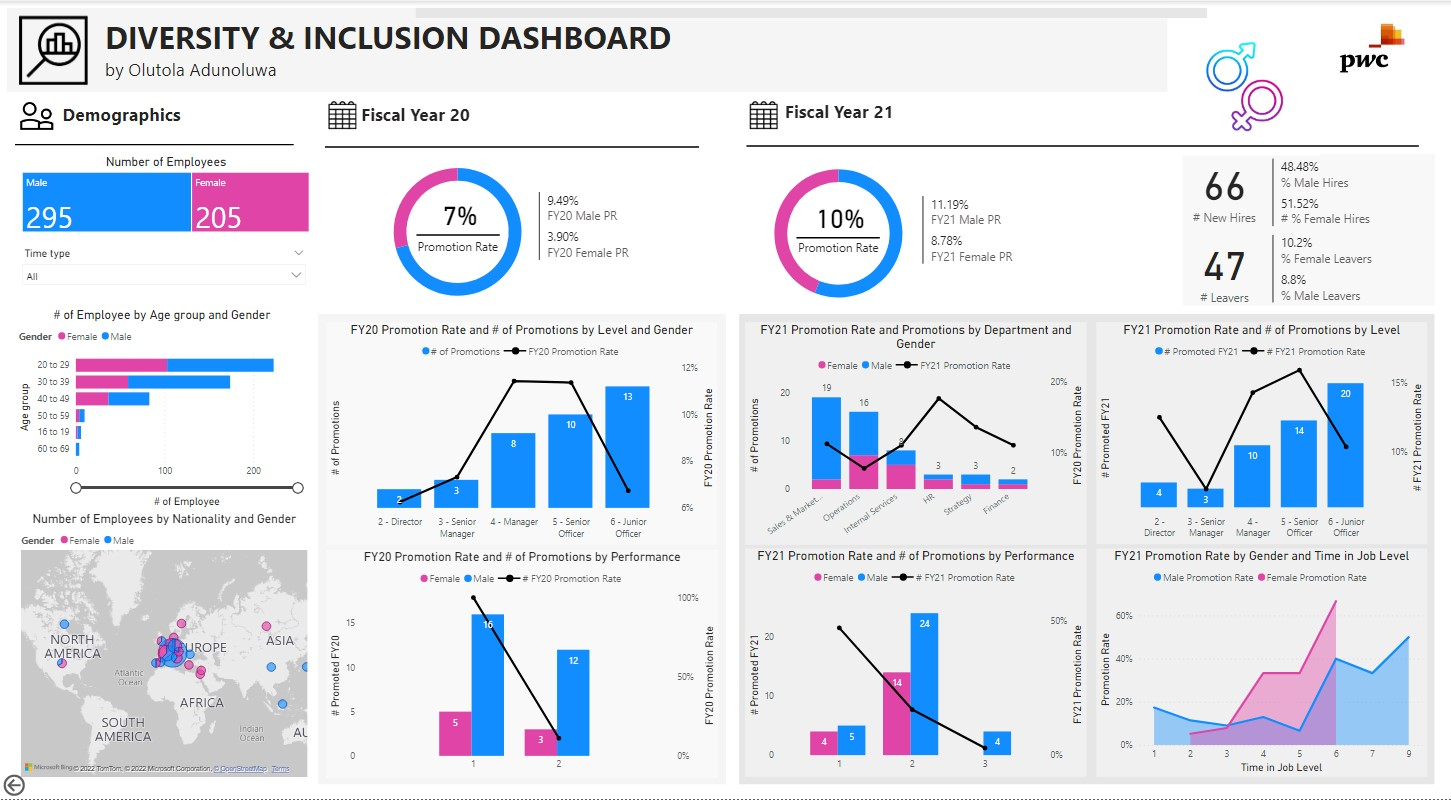

This screenshot's page, from the dashboard's own definition file:
{"tool":"powerbi","page":{"name":"Duplicate of Page 1A","canvas":[2000,1100],"ordinal":1},"visuals":[{"type":"shape","box":[0,0,1640,134.5],"z":0},{"type":"image","box":[1028.3,131.7,48.2,53.4],"z":0,"group":"g6"},{"type":"donutChart","fields":{"Category":["Pharma.Gender"],"Y":["Pharma.# Leavers"]},"box":[989.8,204.9,329.7,230.2],"z":0,"group":"g1"},{"type":"textbox","box":[1076.5,131.7,229,53.4],"z":1000,"group":"g6"},{"type":"image","box":[1795.7,154.3,204.3,292.9],"z":1000},{"type":"donutChart","fields":{"Category":["Pharma.Gender"],"Y":["Pharma.# New Hires"]},"box":[461.3,203.1,338,230.1],"z":1000,"group":"g3"},{"type":"multiRowCard","fields":{"Values":["Pharma.# % Male Hires","Pharma.# % Female Hires"]},"box":[736.8,258.6,205,121.2],"z":1000,"group":"g2"},{"type":"card","fields":{"Values":["Pharma.# Leavers"]},"box":[1093.7,273.7,127.9,45.3],"z":1000,"group":"g4"},{"type":"shape","box":[428.6,421.8,580.1,666.2],"z":2000},{"type":"card","fields":{"Values":["Pharma.# New Hires"]},"box":[571.3,278.8,112.9,52.9],"z":3000,"group":"g3"},{"type":"shape","box":[1097.1,318,115,15],"z":3000,"group":"g4"},{"type":"shape","box":[1008.8,421.8,976.1,666.2],"z":3000},{"type":"treemap","title":"Number of Employees","fields":{"Group":["Pharma Group AG.Gender"],"Values":["CountNonNull(Pharma.Employee ID)"]},"box":[25,211.3,405.4,111.4],"z":4000},{"type":"shape","box":[573.2,315.7,115,14.6],"z":5000,"group":"g3"},{"type":"hundredPercentStackedColumnChart","title":"Employee Distribution by Job Level and Gender","fields":{"Y":["CountNonNull(Pharma.Employee ID)"],"Series":["Pharma.Gender"],"Category":["Pharma.Job Level after FY20 promotions"]},"box":[449.2,442.5,538.3,306.7],"z":5000},{"type":"hundredPercentStackedBarChart","title":"# of Employees by Department and Gender","fields":{"Category":["Pharma.Department @01.07.2020"],"Series":["Pharma.Gender"],"Y":["CountNonNull(Pharma.Employee ID)"]},"box":[447.3,760,540,314.5],"z":6000},{"type":"barChart","title":"# Leavers by Department and Gender","fields":{"Category":["Pharma.Last Department in FY20"],"Series":["Pharma.Gender"],"Y":["Pharma.# Leavers"]},"box":[1026.7,441.9,470.5,306.7],"z":7000},{"type":"group","id":"g1","title":"Group 1","box":[989.8,204.9,329.7,230.2],"z":8000,"group":"g5"},{"type":"filledMap","fields":{"Category":["Pharma.Nationality 1"]},"box":[23.6,550.9,405.5,523.6],"z":8000},{"type":"areaChart","title":"Leave Rate by Time in Job Level ","fields":{"Category":["Pharma.Time in Job Level @01.07.2020"],"Y":["Pharma.# % Leave Rate"]},"box":[1510,754.3,455.7,314.3],"z":9000},{"type":"textbox","box":[140,15,1115,103.3],"z":10000},{"type":"image","box":[1771.6,0,228,122],"z":11000},{"type":"multiRowCard","fields":{"Values":["Pharma.# % Male Leavers","Pharma.# % Female Leavers"]},"box":[1265,264,215,121.2],"z":11000,"group":"g5"},{"type":"textbox","box":[1077.6,324.1,153.4,34.4],"z":11000,"group":"g4"},{"type":"group","id":"g2","title":"Group 4","box":[461.3,203.1,480.5,230.1],"z":12000},{"type":"group","id":"g3","title":"Group 2","box":[461.3,203.1,338,230.1],"z":12000,"group":"g2"},{"type":"textbox","box":[564.5,321.9,131.5,37.6],"z":12000,"group":"g3"},{"type":"group","id":"g4","title":"Group 3","box":[1077.6,273.7,153.4,84.8],"z":12002,"group":"g1"},{"type":"textbox","box":[493.1,135.1,229,53.4],"z":13000,"group":"g7"},{"type":"group","id":"g5","title":"Group 5","box":[989.8,204.9,490.6,229],"z":13000},{"type":"image","box":[20.3,134.6,59.5,48.5],"z":14000},{"type":"shape","box":[448.3,185,515,33.3],"z":15000},{"type":"shape","box":[1027.7,182.5,926.1,34.4],"z":16000},{"type":"shape","box":[20.7,184.2,383.9,27.5],"z":17000},{"type":"group","id":"g6","title":"Group 6","box":[1028.3,131.7,278.3,53.3],"z":18000},{"type":"group","id":"g7","title":"Group 7","box":[493.1,135.1,229,53.4],"z":18000,"group":"g8"},{"type":"slicer","fields":{"Values":["Pharma.Time type"]},"box":[20.7,334,409.7,74],"z":19000},{"type":"textbox","box":[80.9,134.3,229,53.4],"z":20000},{"type":"image","box":[20,15,105,105],"z":21000},{"type":"lineClusteredColumnComboChart","title":"# Leavers by Age Group and Gender","fields":{"Series":["Pharma.Gender"],"Y":["Pharma.# Leavers"],"Category":["Pharma.Age group"]},"box":[1026.7,754.3,470.5,314.3],"z":22000},{"type":"lineClusteredColumnComboChart","title":"# Leavers and Average Performance Rating by Level","fields":{"Category":["Pharma.Job Level before FY20 promotions"],"Series":["Pharma.Gender"],"Y":["Pharma.# Leavers"],"Y2":["Avg(Pharma.FY19 Performance Rating)"]},"box":[1510,442.9,455.7,305.7],"z":23000},{"type":"shape","box":[888.3,0,1110.3,32.7],"z":24000},{"type":"image","box":[430.9,132.7,65.5,49.1],"z":25001,"group":"g8"},{"type":"group","id":"g8","title":"Group 8","box":[430.9,132.7,291.1,55.7],"z":26000},{"type":"slicer","fields":{"Values":["Pharma.Region group: nationality 1"]},"box":[20,405.5,409.1,74.5],"z":27000},{"type":"slicer","fields":{"Values":["Pharma.Department @01.07.2020"]},"box":[20,476.4,409.1,74.5],"z":28000},{"type":"multiRowCard","fields":{"Values":["Avg(Pharma.FY20 Performance Rating)"]},"box":[1738.2,369.1,229.1,65.5],"z":29000}]}

Visuals, with their boxes in screenshot pixels (x1, y1, x2, y2), scaled from the page's 2000x1100 canvas onto the 1451x800 screenshot:
shape: l=0, t=0, r=1190, b=98
image: l=746, t=96, r=781, b=135
donutChart - Pharma.Gender x Pharma.# Leavers: l=718, t=149, r=957, b=316
textbox: l=781, t=96, r=947, b=135
image: l=1303, t=112, r=1450, b=325
donutChart - Pharma.Gender x Pharma.# New Hires: l=335, t=148, r=580, b=315
multiRowCard - Pharma.# % Male Hires x Pharma.# % Female Hires: l=535, t=188, r=683, b=276
card - Pharma.# Leavers: l=793, t=199, r=886, b=232
shape: l=311, t=307, r=732, b=791
card - Pharma.# New Hires: l=414, t=203, r=496, b=241
shape: l=796, t=231, r=879, b=242
shape: l=732, t=307, r=1440, b=791
"Number of Employees" treemap: l=18, t=154, r=312, b=235
shape: l=416, t=230, r=499, b=240
"Employee Distribution by Job Level and Gender" hundredPercentStackedColumnChart: l=326, t=322, r=716, b=545
"# of Employees by Department and Gender" hundredPercentStackedBarChart: l=325, t=553, r=716, b=781
"# Leavers by Department and Gender" barChart: l=745, t=321, r=1086, b=544
"Group 1" group: l=718, t=149, r=957, b=316
filledMap - Pharma.Nationality 1: l=17, t=401, r=311, b=781
"Leave Rate by Time in Job Level " areaChart: l=1096, t=549, r=1426, b=777
textbox: l=102, t=11, r=911, b=86
image: l=1285, t=0, r=1450, b=89
multiRowCard - Pharma.# % Male Leavers x Pharma.# % Female Leavers: l=918, t=192, r=1074, b=280
textbox: l=782, t=236, r=893, b=261
"Group 4" group: l=335, t=148, r=683, b=315
"Group 2" group: l=335, t=148, r=580, b=315
textbox: l=410, t=234, r=505, b=261
"Group 3" group: l=782, t=199, r=893, b=261
textbox: l=358, t=98, r=524, b=137
"Group 5" group: l=718, t=149, r=1074, b=316
image: l=15, t=98, r=58, b=133
shape: l=325, t=135, r=699, b=159
shape: l=746, t=133, r=1417, b=158
shape: l=15, t=134, r=294, b=154
"Group 6" group: l=746, t=96, r=948, b=135
"Group 7" group: l=358, t=98, r=524, b=137
slicer - Pharma.Time type: l=15, t=243, r=312, b=297
textbox: l=59, t=98, r=225, b=137
image: l=15, t=11, r=91, b=87
"# Leavers by Age Group and Gender" lineClusteredColumnComboChart: l=745, t=549, r=1086, b=777
"# Leavers and Average Performance Rating by Level" lineClusteredColumnComboChart: l=1096, t=322, r=1426, b=544
shape: l=644, t=0, r=1450, b=24
image: l=313, t=97, r=360, b=132
"Group 8" group: l=313, t=97, r=524, b=137
slicer - Pharma.Region group: nationality 1: l=15, t=295, r=311, b=349
slicer - Pharma.Department @01.07.2020: l=15, t=346, r=311, b=401
multiRowCard - Avg(Pharma.FY20 Performance Rating): l=1261, t=268, r=1427, b=316
